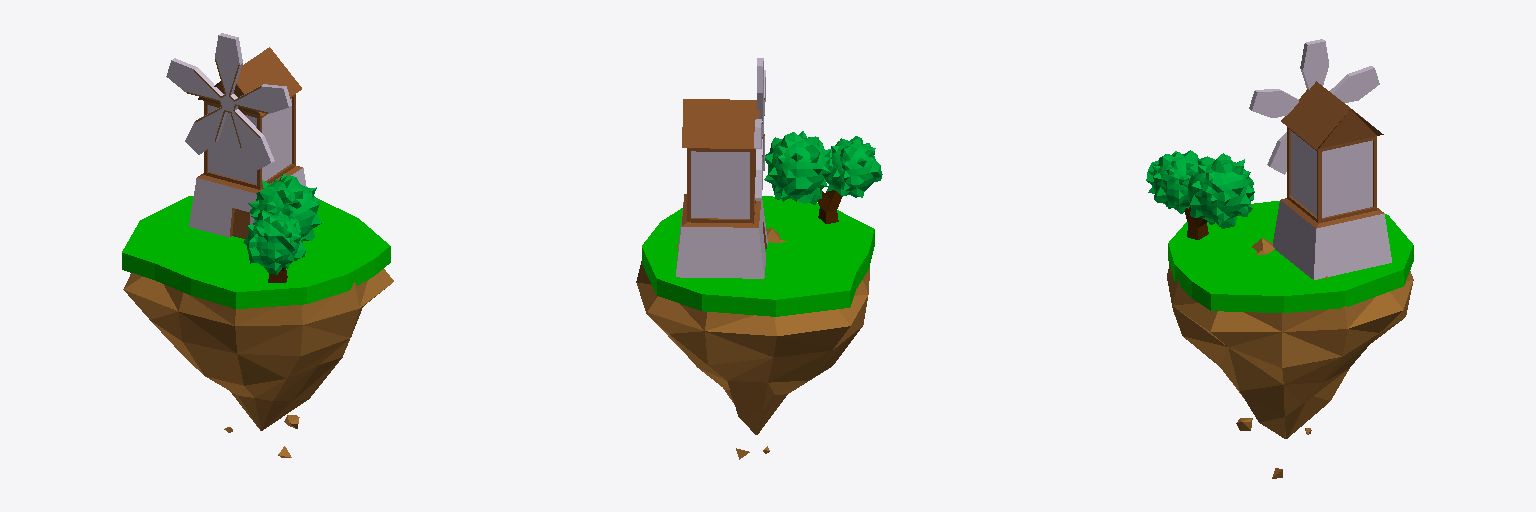
Rendered from windmill.obj.
3 views of the same model, side by side, from view 1: azimuth 30°, elevation 25°; view 2: azimuth 150°, elevation 25°; view 3: azimuth 270°, elevation 25° (orthographic).
Visible parts, largest first — view 1: Island_ground, Green_platform_platform, Mill_facade1, propeller_facade1, Tree_foliage, Mill_facade, propeller_ground; view 2: Green_platform_platform, Island_ground, Mill_facade1, Tree_foliage, Mill_facade, propeller_facade1, Tree_wood; view 3: Island_ground, Green_platform_platform, Mill_facade1, Tree_foliage, Mill_facade, propeller_facade1.
Part boxes in pixels (left/top/right/bottom): Island_ground: left=123, top=269, right=393, bottom=457; Green_platform_platform: left=122, top=196, right=390, bottom=308; Mill_facade1: left=189, top=98, right=306, bottom=237; propeller_facade1: left=166, top=33, right=291, bottom=169; Tree_foliage: left=243, top=174, right=321, bottom=274; Mill_facade: left=197, top=47, right=302, bottom=238; propeller_ground: left=187, top=59, right=267, bottom=147; Green_platform_platform: left=642, top=196, right=874, bottom=316; Island_ground: left=636, top=228, right=869, bottom=459; Mill_facade1: left=676, top=151, right=767, bottom=278; Tree_foliage: left=764, top=131, right=882, bottom=204; Mill_facade: left=682, top=99, right=766, bottom=248; propeller_facade1: left=754, top=58, right=765, bottom=200; Tree_wood: left=817, top=190, right=842, bottom=223; Island_ground: left=1167, top=238, right=1413, bottom=478; Green_platform_platform: left=1168, top=201, right=1413, bottom=312; Mill_facade1: left=1273, top=131, right=1391, bottom=279; Tree_foliage: left=1146, top=150, right=1254, bottom=228; Mill_facade: left=1281, top=81, right=1383, bottom=228; propeller_facade1: left=1249, top=39, right=1379, bottom=174.
Bounding box in the file's own units: 1.05 × 1.95 × 1.13.